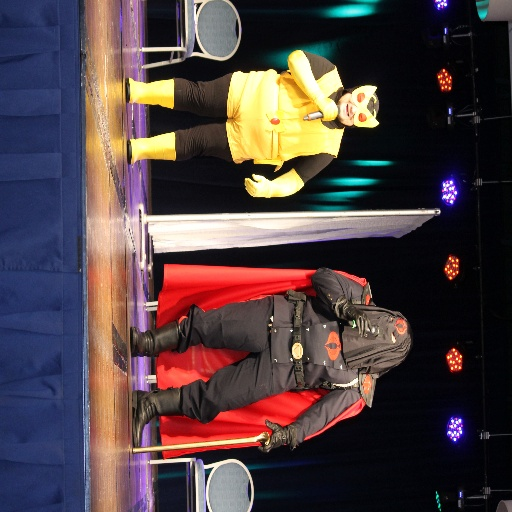hand: (258, 418, 286, 455), (346, 304, 372, 337), (243, 173, 273, 198), (320, 98, 338, 120)
